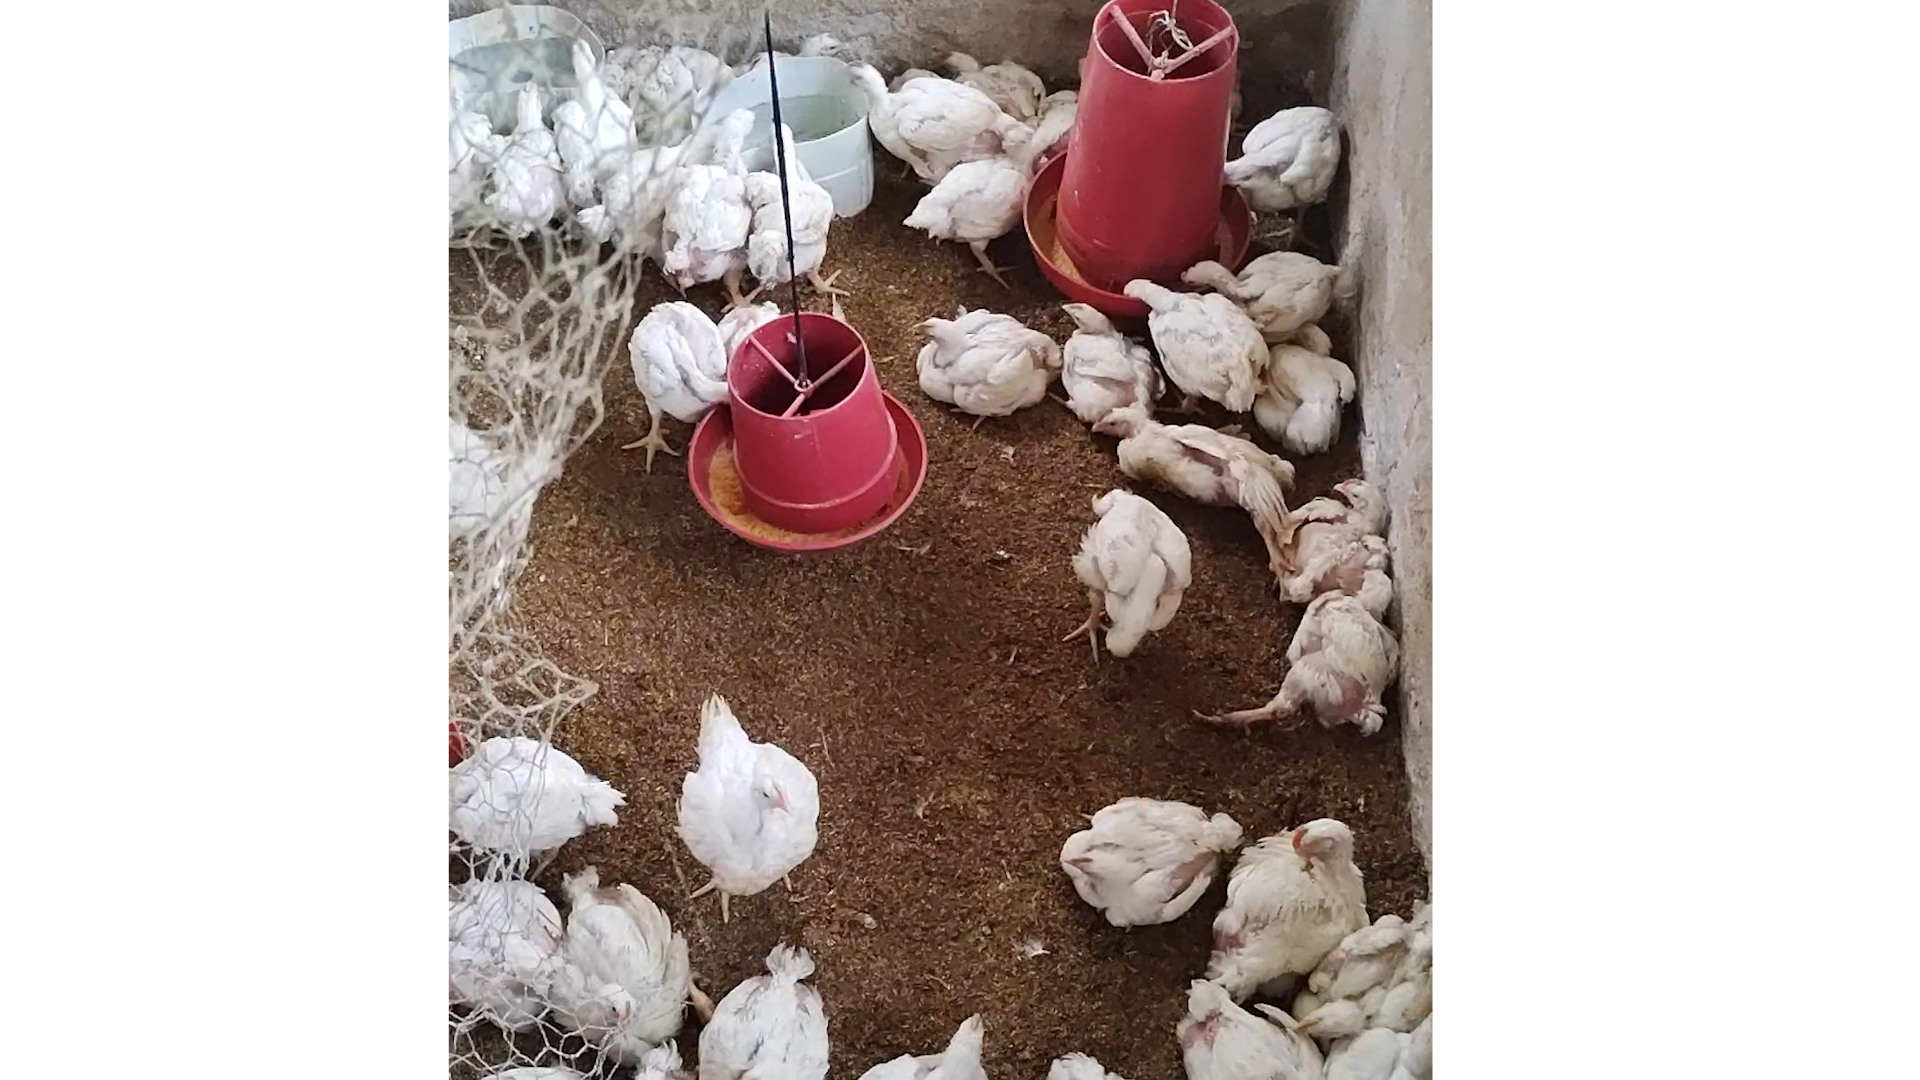Pollos: (1168, 580, 1415, 729), (676, 702, 833, 914), (555, 860, 717, 1046), (1054, 786, 1246, 930), (1215, 806, 1360, 978), (1087, 404, 1286, 524), (1065, 477, 1187, 667), (447, 737, 625, 866), (1122, 270, 1273, 411), (686, 938, 833, 1080), (836, 61, 1029, 164), (654, 99, 757, 282), (901, 156, 1036, 291), (753, 113, 852, 298), (910, 302, 1062, 419), (1155, 963, 1305, 1080), (622, 302, 733, 456), (1221, 102, 1358, 216), (1170, 255, 1364, 334), (1262, 323, 1364, 467), (492, 73, 575, 236), (1054, 294, 1159, 415), (1278, 467, 1390, 579), (563, 30, 645, 174), (942, 32, 1044, 121)
